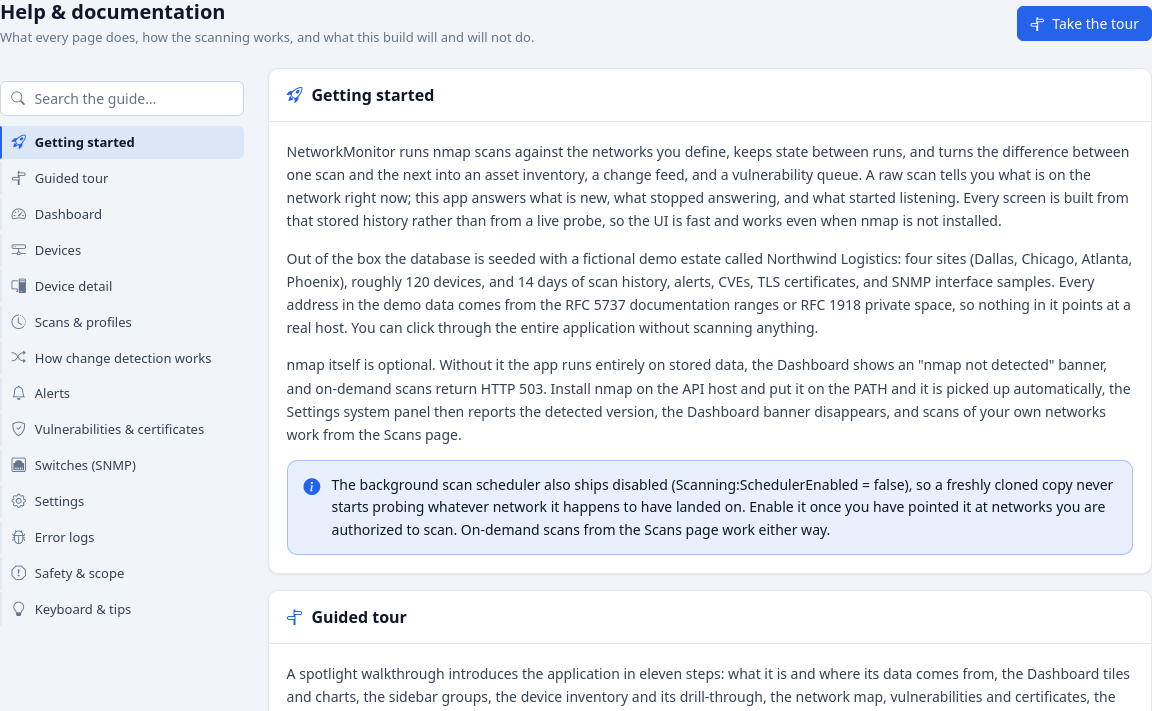
it: HelpGuide › restores every section when the empty state is cleared
The image size is (1152, 711).
Step 1. Type "zzzznotathing" into the search field with test id "help-search" → [122, 98], box [0,80,244,115]
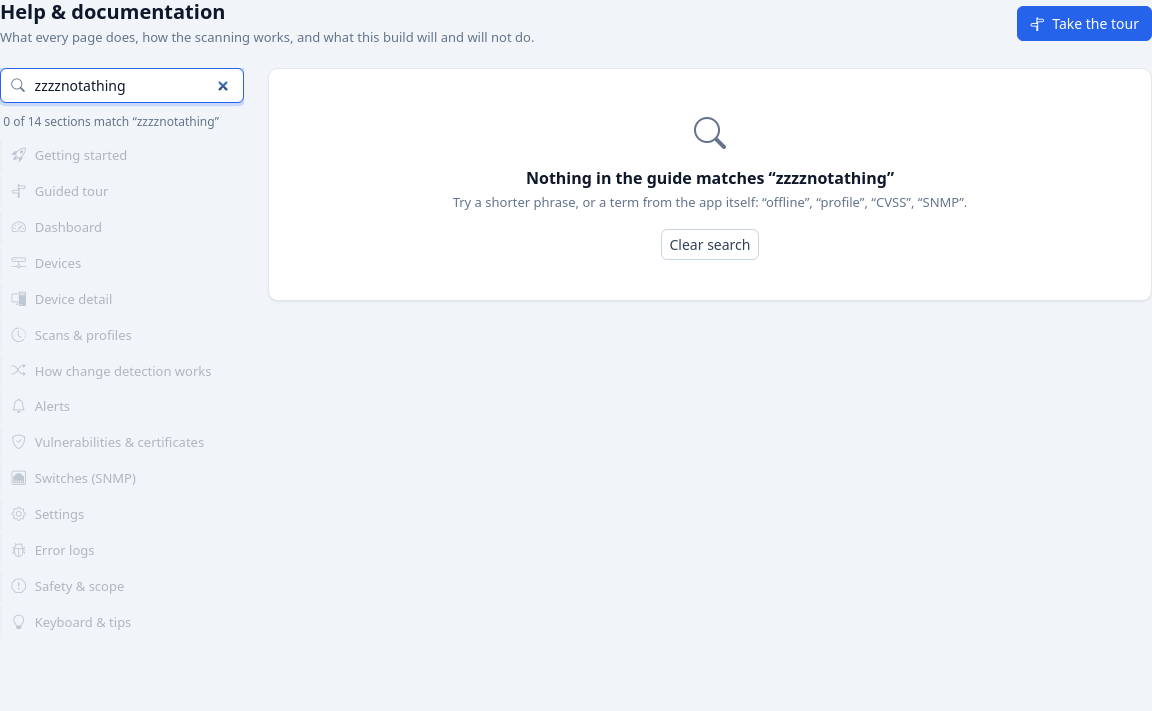
Step 2. Click the button "Clear search" → [710, 244], box [660,229,760,260]
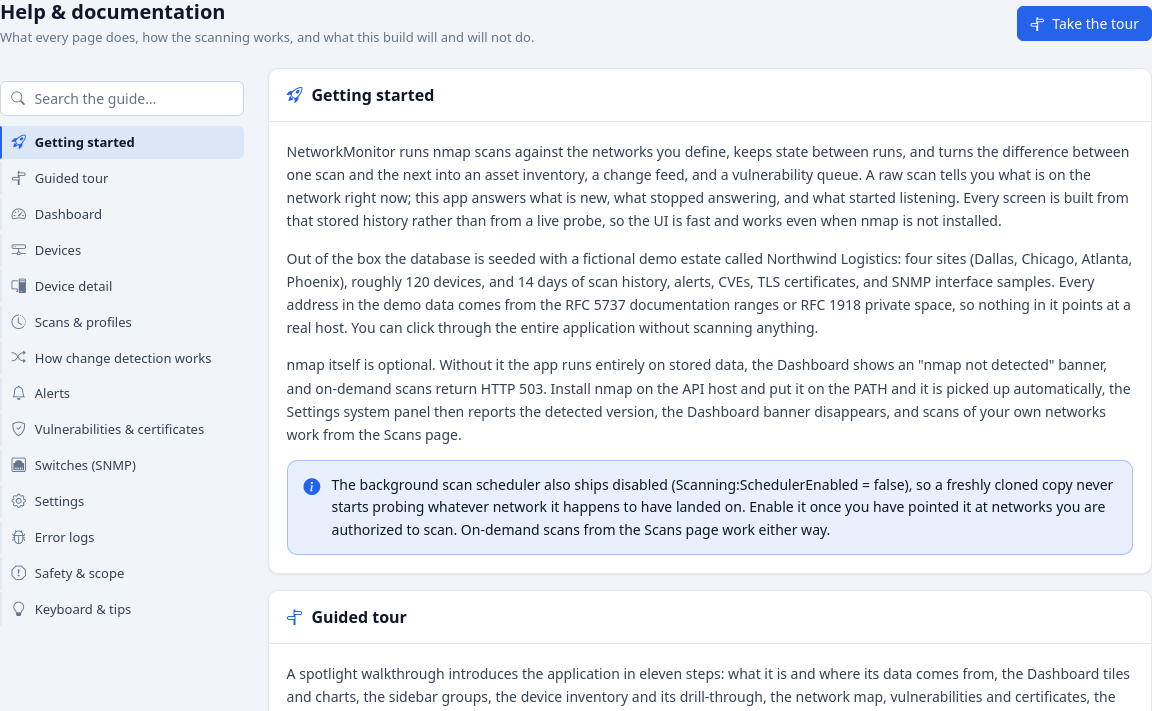
Check: the element with test id "help-empty" is gone
